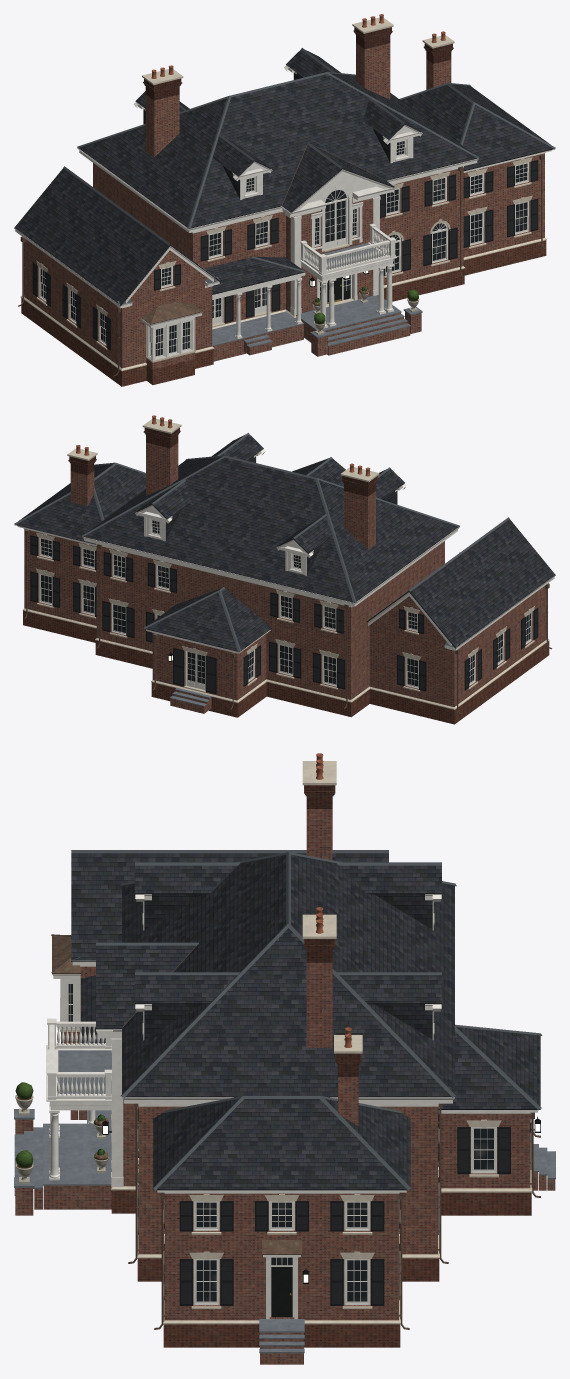
File: delacroix-house.glb
3 renders of one model, top to bottom at view 1: azimuth 30°, elevation 25°; view 2: azimuth 150°, elevation 25°; view 3: azimuth 270°, elevation 25°, orthographic. The views are drawn at different scales.
Visible parts, largest first — view 1: House_Roof, House, House_Trim, House_Entry; view 2: House_Roof, House, House_Trim; view 3: House_Roof, House, House_Trim, House_Entry.
Boxes of the visible parts, x1,y1,x2,y2 form: House_Roof: (14, 48, 555, 324); House: (20, 27, 546, 386); House_Trim: (14, 14, 552, 376); House_Entry: (212, 224, 422, 347); House_Roof: (14, 433, 555, 652); House: (22, 428, 549, 724); House_Trim: (17, 415, 555, 714); House_Roof: (51, 850, 542, 1190); House: (15, 785, 555, 1364); House_Trim: (52, 753, 555, 1353); House_Entry: (14, 1018, 111, 1195).
Bounding box in the file's own units: 32.48 × 14.62 × 20.85.
Materials: 21 (17 with a texture image).
